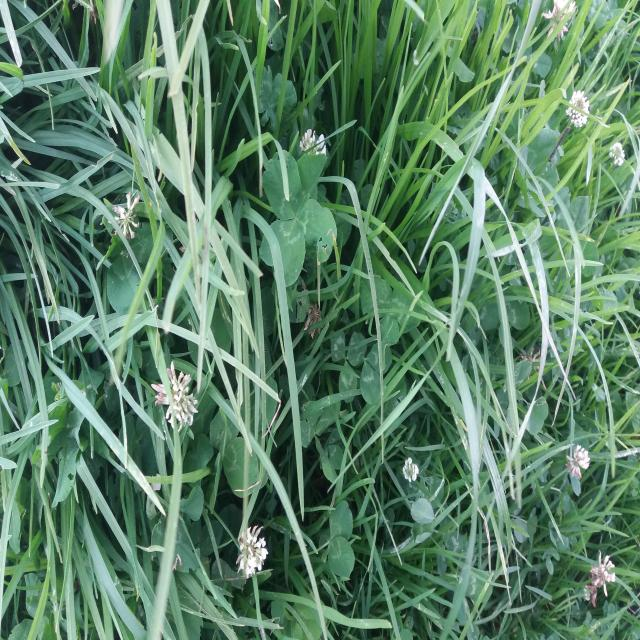Four Leaf Clover: (260, 151, 336, 288)
